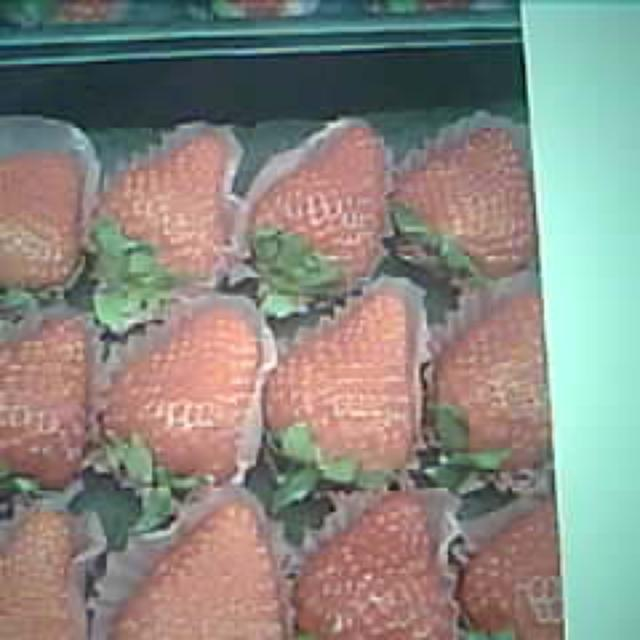ripe: (271, 290, 423, 480), (109, 305, 262, 485), (120, 500, 286, 640), (304, 488, 454, 640), (439, 287, 549, 487), (254, 132, 388, 286), (105, 132, 236, 288), (404, 129, 534, 279), (4, 318, 92, 488)
